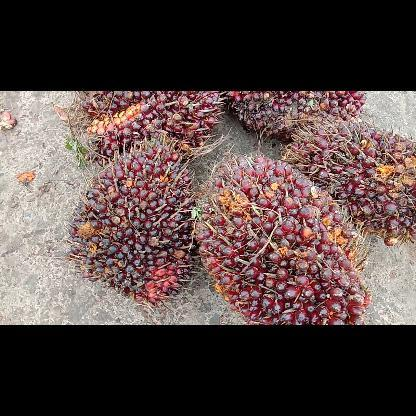Kurang masak: (194, 150, 374, 324), (65, 134, 199, 308), (279, 118, 415, 246), (64, 91, 226, 159), (223, 90, 369, 142)
